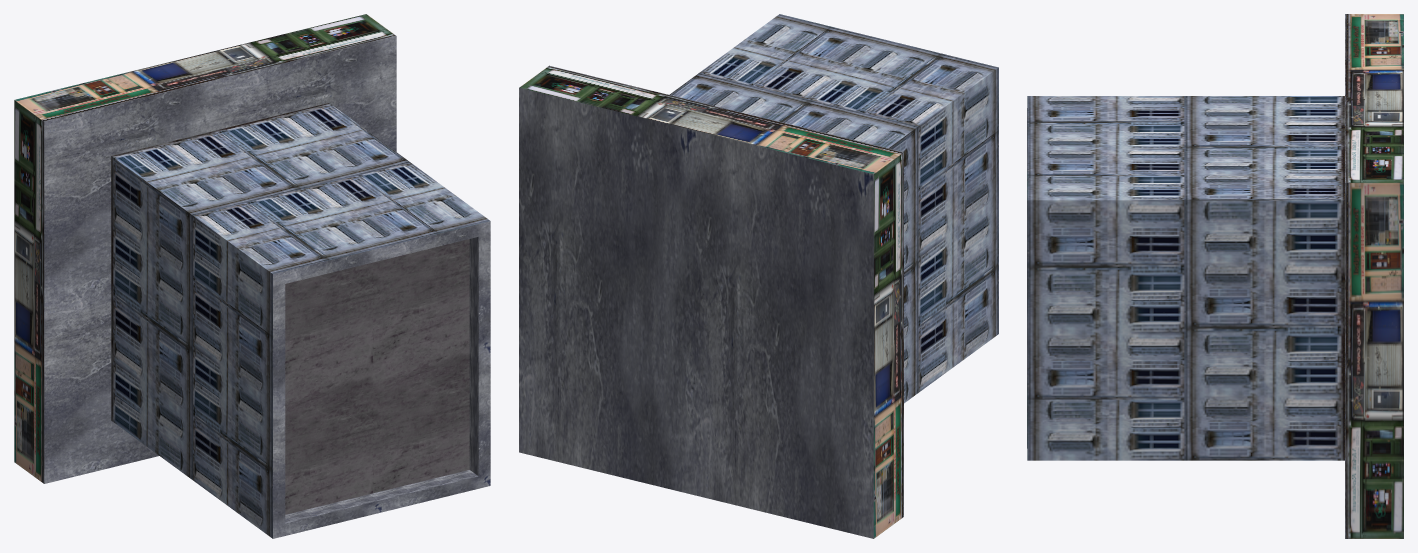
The model's file is urbanflats2Ab_wtf.obj.
3 renders of one model, left to right at view 1: azimuth 30°, elevation 25°; view 2: azimuth 150°, elevation 25°; view 3: azimuth 270°, elevation 25°, orthographic. The views are drawn at different scales.
Parts seen in each view (by area): view 1: group5, group3, group4; view 2: group3, group5; view 3: group5.
Part boxes in pixels (box(x1,y1,x2,y2)): group5: box(14, 14, 490, 538); group3: box(44, 36, 490, 538); group4: box(285, 239, 469, 514); group3: box(519, 88, 873, 538); group5: box(519, 14, 998, 538); group5: box(1027, 14, 1403, 538).
Bounding box in the file's own units: 660 × 648 × 622.
